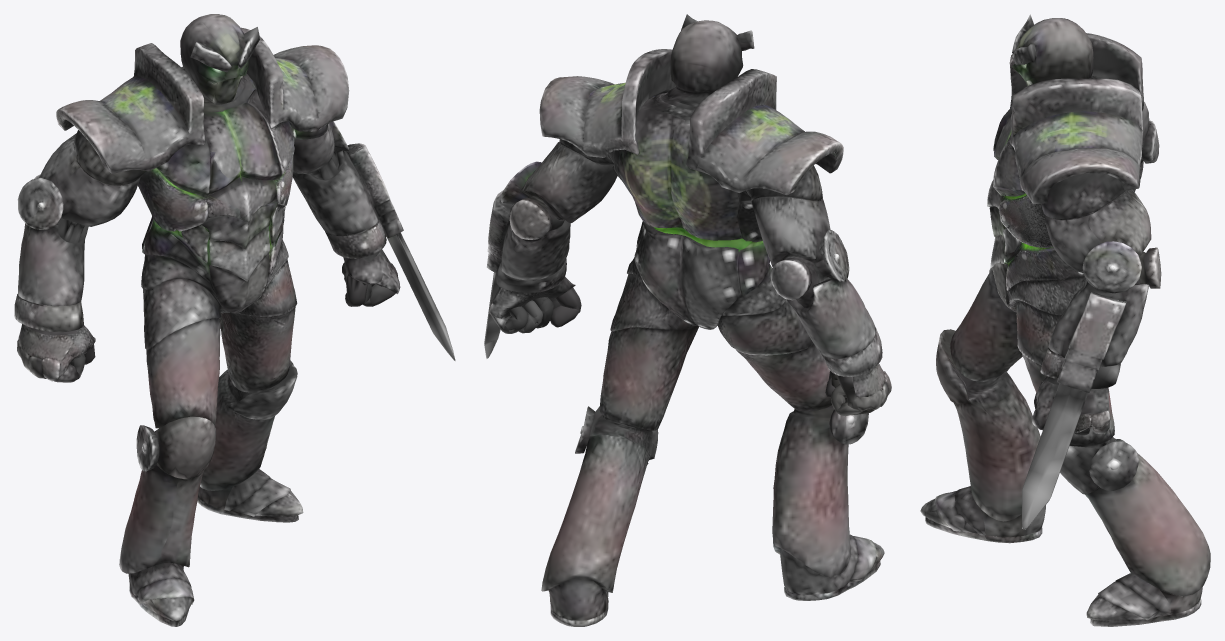
File: MZ4250 - Iron Golem 2025.glb
3 views of the same model, side by side, from view 1: azimuth 30°, elevation 25°; view 2: azimuth 150°, elevation 25°; view 3: azimuth 270°, elevation 25° (orthographic). The views are drawn at different scales.
Parts seen in each view (by area): view 1: Iron Golem.001; view 2: Iron Golem.001; view 3: Iron Golem.001.
Boxes of the visible parts, x1=… form: Iron Golem.001: x1=14, y1=14, x2=455, y2=626; Iron Golem.001: x1=484, y1=14, x2=891, y2=626; Iron Golem.001: x1=920, y1=14, x2=1210, y2=626.
Bounding box in the file's own units: 127 × 162 × 77.16.
Materials: 1 (1 with a texture image).
